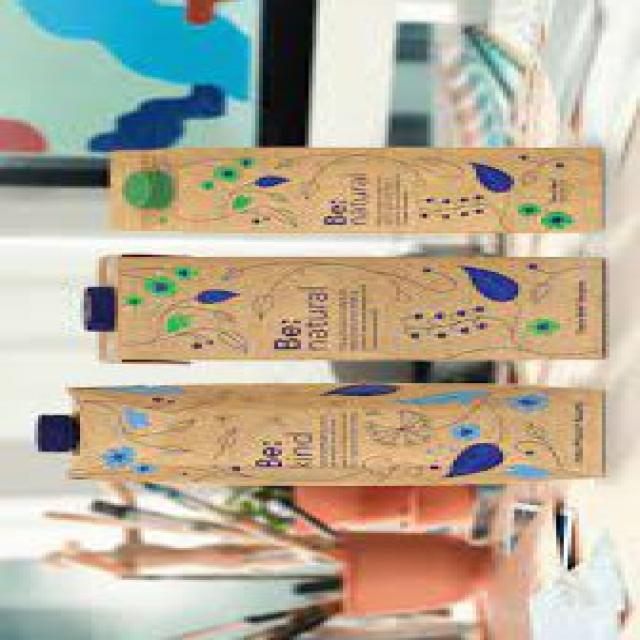non_white_jug: (29, 380, 615, 486), (75, 252, 613, 364), (100, 145, 610, 237)
